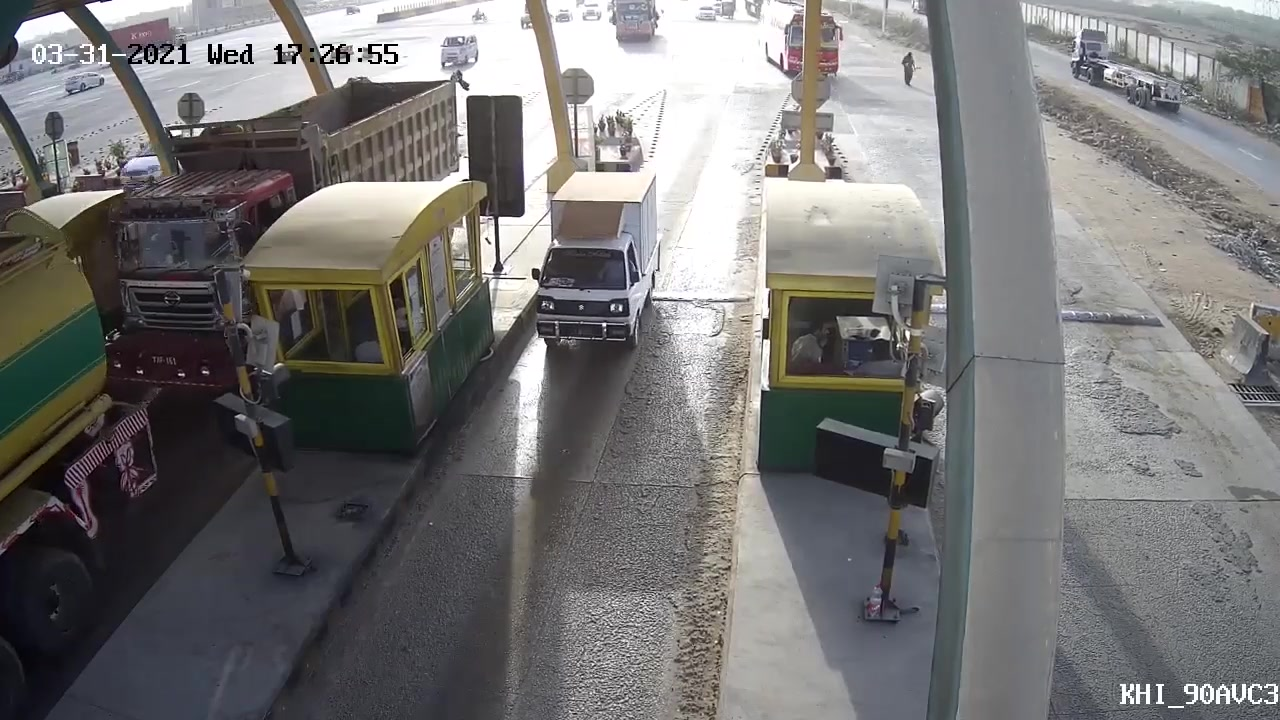F1: (521, 168, 668, 361)
